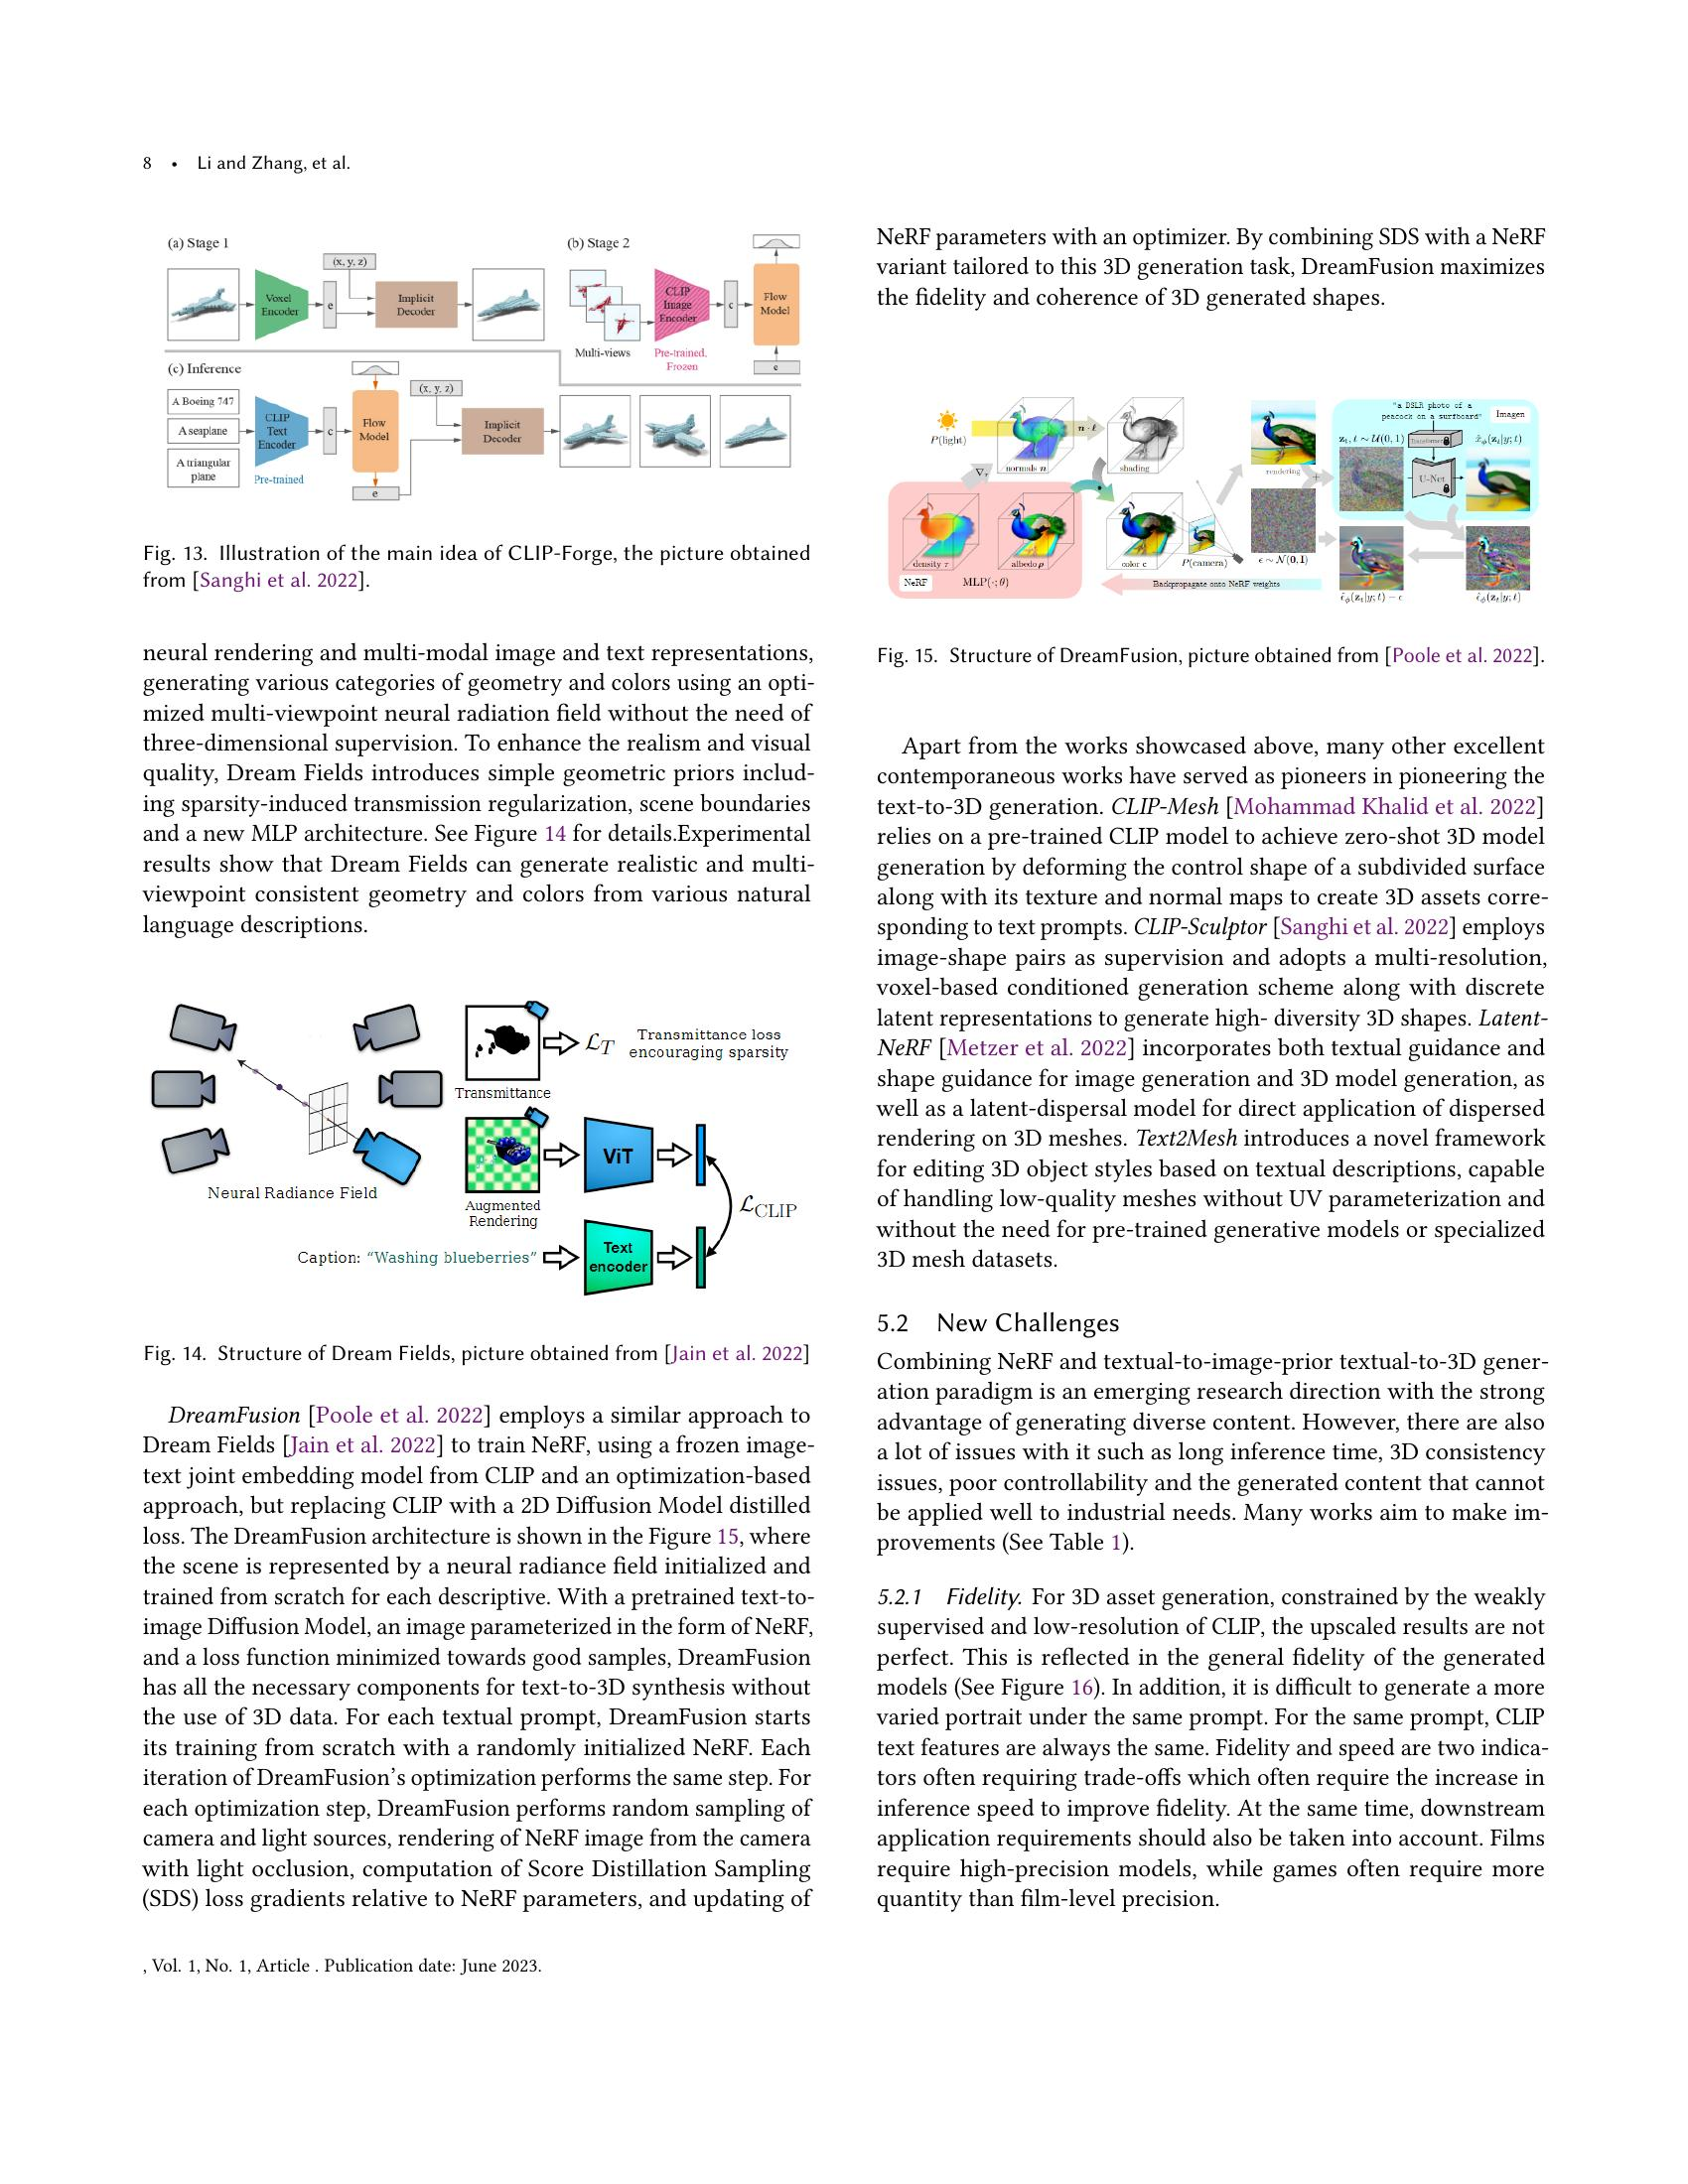figure: (137, 994, 816, 1376), (137, 223, 816, 601), (872, 388, 1550, 675)
text: (867, 1305, 1555, 1922), (867, 729, 1553, 1278), (133, 1397, 821, 1922), (133, 635, 821, 945), (867, 220, 1553, 316)
